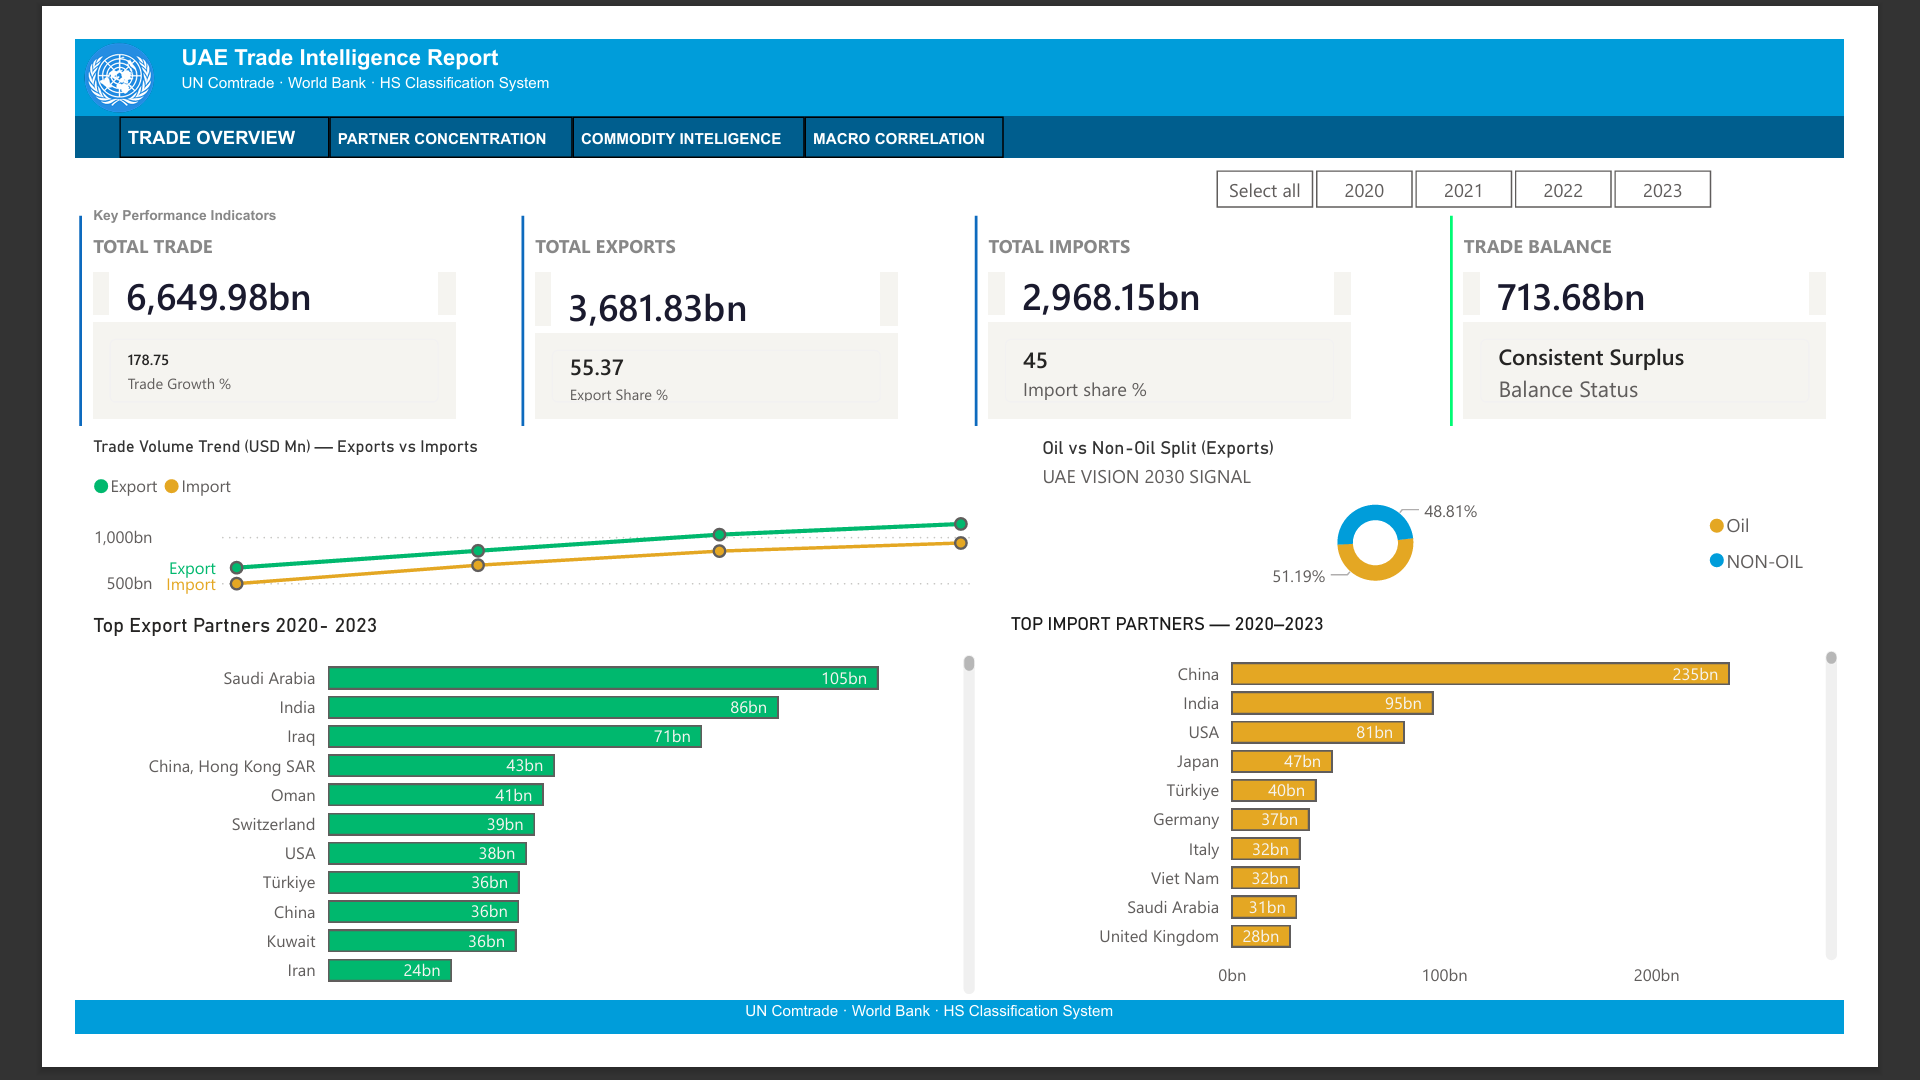

The page's visual inventory and layout, read from the dashboard file:
{"tool":"powerbi","page":{"name":"Trade Overview","canvas":[1280,720],"ordinal":0},"visuals":[{"type":"shape","box":[0,0,1280,60],"z":0},{"type":"textbox","box":[72,0,288,40],"z":1000},{"type":"textbox","box":[72,16,288,32],"z":2000},{"type":"shape","box":[0,56,1280,30],"z":3000},{"type":"image","box":[0,0,64,56],"z":4000},{"type":"textbox","box":[32,56,152,30],"z":5000},{"type":"textbox","box":[184,56,176,30],"z":6000},{"type":"textbox","box":[360,56,168,30],"z":7000},{"type":"textbox","box":[528,56,144,30],"z":8000},{"type":"textbox","box":[8,112,304,32],"z":9000},{"type":"cardVisual","fields":{"Data":["public uae_trade_flows.Total Trade Value"]},"box":[8,144,272,88],"z":10000},{"type":"cardVisual","fields":{"Data":["public uae_trade_flows.Total Exports"]},"box":[328,152,272,88],"z":11000},{"type":"cardVisual","fields":{"Data":["public uae_trade_flows.Total Imports"]},"box":[656,144,272,88],"z":12000},{"type":"cardVisual","fields":{"Data":["public uae_trade_flows.Trad Balance"]},"box":[1000,144,272,88],"z":13000},{"type":"textbox","box":[8,136,272,32],"z":14000},{"type":"textbox","box":[328,136,272,32],"z":15000},{"type":"textbox","box":[656,136,272,32],"z":16000},{"type":"textbox","box":[1000,136,272,32],"z":17000},{"type":"cardVisual","fields":{"Data":["public uae_trade_flows.Trade Growth %"]},"box":[8,200,272,80],"z":18000},{"type":"cardVisual","fields":{"Data":["public uae_trade_flows.Export Share %"]},"box":[328,208,272,72],"z":19000},{"type":"cardVisual","fields":{"Data":["public uae_trade_flows.Import share %"]},"box":[656,200,272,80],"z":20000},{"type":"cardVisual","fields":{"Data":["public uae_trade_flows.Balance Sheets"]},"box":[1000,200,272,80],"z":21000},{"type":"shape","box":[0,128,8,152],"z":22000},{"type":"shape","box":[320,128,8,152],"z":23000},{"type":"shape","box":[648,128,8,152],"z":24000},{"type":"shape","box":[992,128,8,152],"z":25000},{"type":"lineChart","title":"Trade Volume Trend (USD Mn) — Exports vs Imports","fields":{"Category":["public uae_trade_flows.refYear"],"Y":["public uae_trade_flows.Total Trade Value"],"Series":["public uae_trade_flows.flowDesc"]},"box":[8,288,648,120],"z":26000},{"type":"donutChart","title":"Oil vs Non-Oil Split (Exports)","fields":{"Y":["Sum(public v_commodity_vulnerability.total_trade_usd)"],"Category":["public v_commodity_vulnerability.commodity_type"]},"box":[680,288,600,120],"z":27000},{"type":"clusteredBarChart","title":"Top Export Partners  2020- 2023","fields":{"Category":["public uae_trade_flows.partnerDesc"],"Y":["Sum(public uae_trade_flows.primaryValue)"]},"box":[8,416,648,280],"z":28000},{"type":"clusteredBarChart","title":"TOP IMPORT PARTNERS — 2020–2023","fields":{"Category":["public uae_trade_flows.partnerDesc"],"Y":["Sum(public uae_trade_flows.primaryValue)"]},"box":[672,416,608,280],"z":29000},{"type":"shape","box":[0,696,1280,24],"z":30000},{"type":"textbox","box":[480,688,288,32],"z":31000},{"type":"slicer","fields":{"Values":["public uae_trade_flows.refYear"]},"box":[800,88,408,40],"z":32000}]}

Visuals, with their boxes in screenshot pixels (x1, y1, x2, y2), scaled from the page's 1280x720 canvas onto the 1920x1080 screenshot:
shape: region(0, 0, 1919, 90)
textbox: region(108, 0, 540, 60)
textbox: region(108, 24, 540, 72)
shape: region(0, 84, 1919, 129)
image: region(0, 0, 96, 84)
textbox: region(48, 84, 276, 129)
textbox: region(276, 84, 540, 129)
textbox: region(540, 84, 792, 129)
textbox: region(792, 84, 1008, 129)
textbox: region(12, 168, 468, 216)
cardVisual - public uae_trade_flows.Total Trade Value: region(12, 216, 420, 348)
cardVisual - public uae_trade_flows.Total Exports: region(492, 228, 900, 360)
cardVisual - public uae_trade_flows.Total Imports: region(984, 216, 1392, 348)
cardVisual - public uae_trade_flows.Trad Balance: region(1500, 216, 1908, 348)
textbox: region(12, 204, 420, 252)
textbox: region(492, 204, 900, 252)
textbox: region(984, 204, 1392, 252)
textbox: region(1500, 204, 1908, 252)
cardVisual - public uae_trade_flows.Trade Growth %: region(12, 300, 420, 420)
cardVisual - public uae_trade_flows.Export Share %: region(492, 312, 900, 420)
cardVisual - public uae_trade_flows.Import share %: region(984, 300, 1392, 420)
cardVisual - public uae_trade_flows.Balance Sheets: region(1500, 300, 1908, 420)
shape: region(0, 192, 12, 420)
shape: region(480, 192, 492, 420)
shape: region(972, 192, 984, 420)
shape: region(1488, 192, 1500, 420)
"Trade Volume Trend (USD Mn) — Exports vs Imports" lineChart: region(12, 432, 984, 612)
"Oil vs Non-Oil Split (Exports)" donutChart: region(1020, 432, 1919, 612)
"Top Export Partners  2020- 2023" clusteredBarChart: region(12, 624, 984, 1044)
"TOP IMPORT PARTNERS — 2020–2023" clusteredBarChart: region(1008, 624, 1919, 1044)
shape: region(0, 1044, 1919, 1079)
textbox: region(720, 1032, 1152, 1079)
slicer - public uae_trade_flows.refYear: region(1200, 132, 1812, 192)
